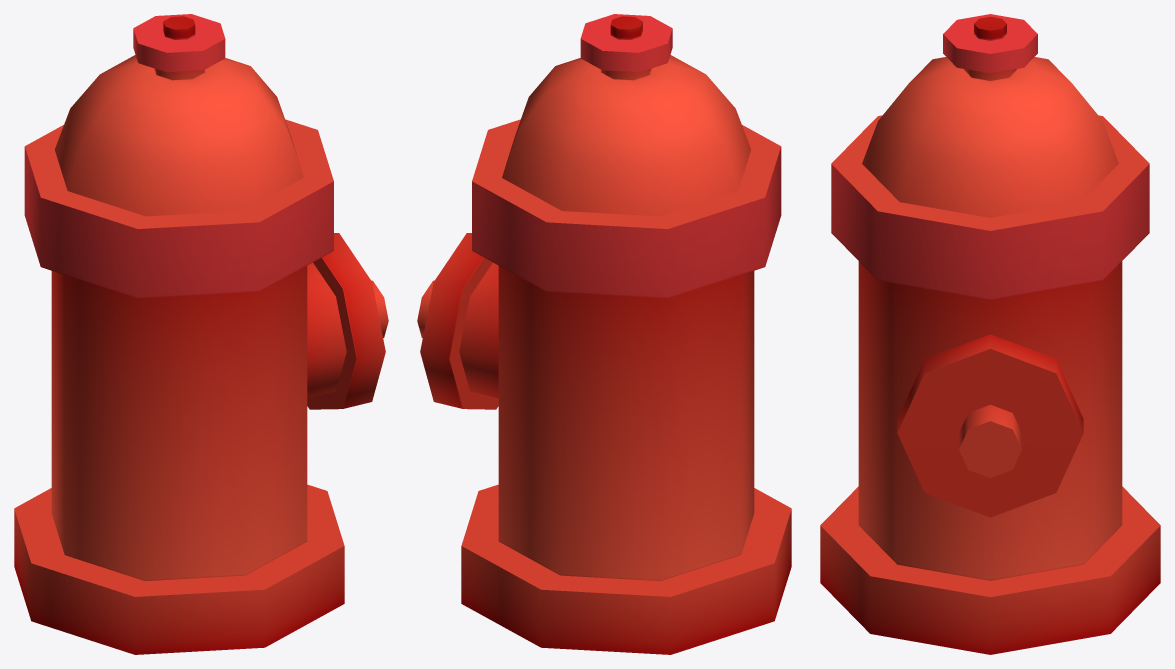
File: Fire hydrant.fbx
The picture shows the model from 3 angles, left to right: view 1: azimuth 30°, elevation 25°; view 2: azimuth 150°, elevation 25°; view 3: azimuth 270°, elevation 25°; orthographic projection.
Parts seen in each view (by area): view 1: Fire hydrant; view 2: Fire hydrant; view 3: Fire hydrant.
Boxes of the visible parts, x1=… form: Fire hydrant: x1=14, y1=14, x2=388, y2=654; Fire hydrant: x1=417, y1=14, x2=791, y2=654; Fire hydrant: x1=820, y1=14, x2=1160, y2=654.
Size of the model in its own units: 0.7802 by 1.23 by 0.6764.
Materials: 1 (1 with a texture image).
